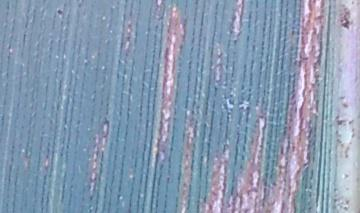tarspot: (54, 7, 64, 20)
